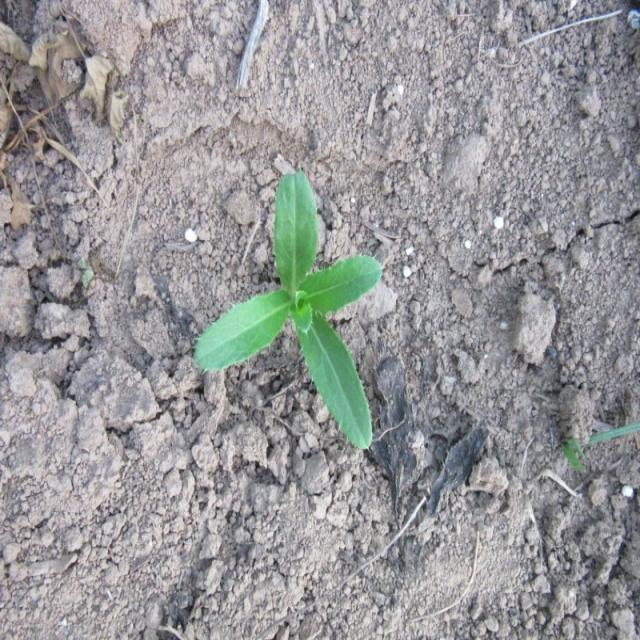cs: (192, 165, 385, 454)
